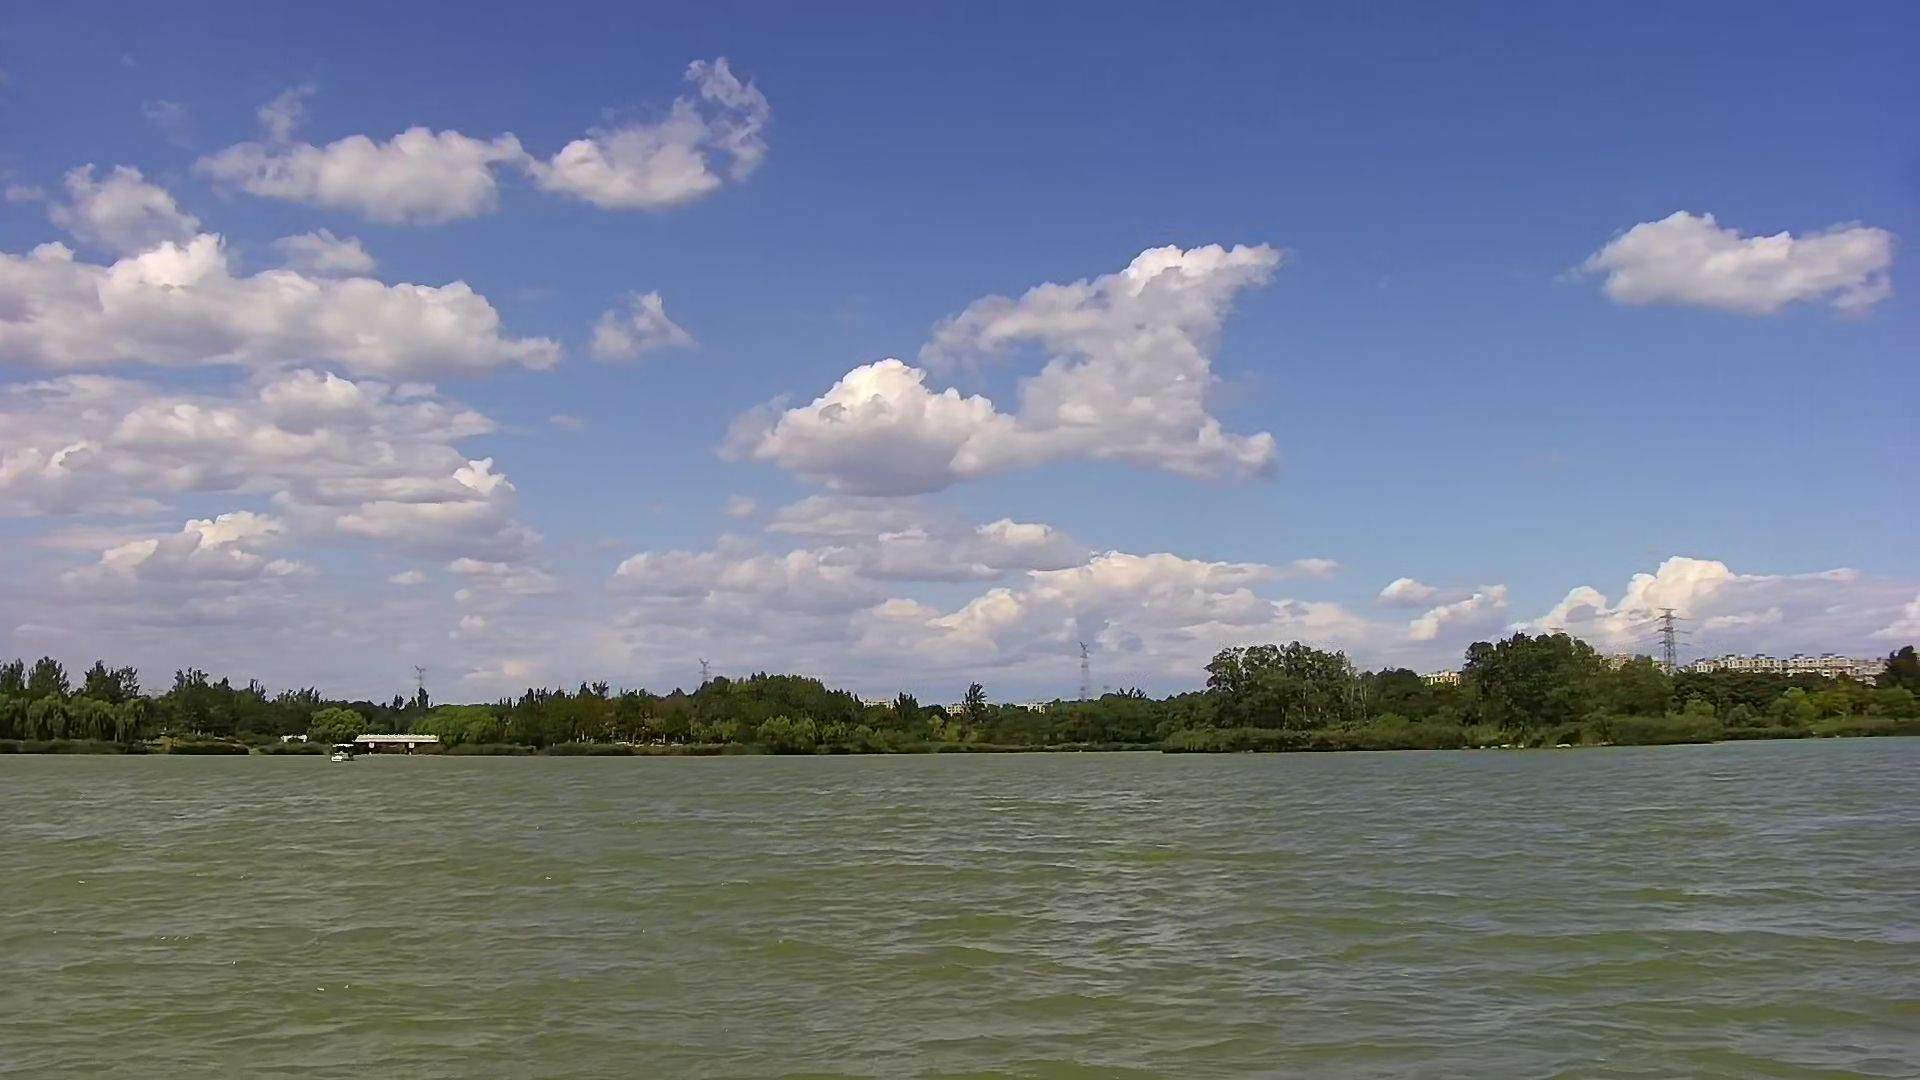boat: (323, 740, 365, 767)
bridge: (355, 731, 455, 748)
